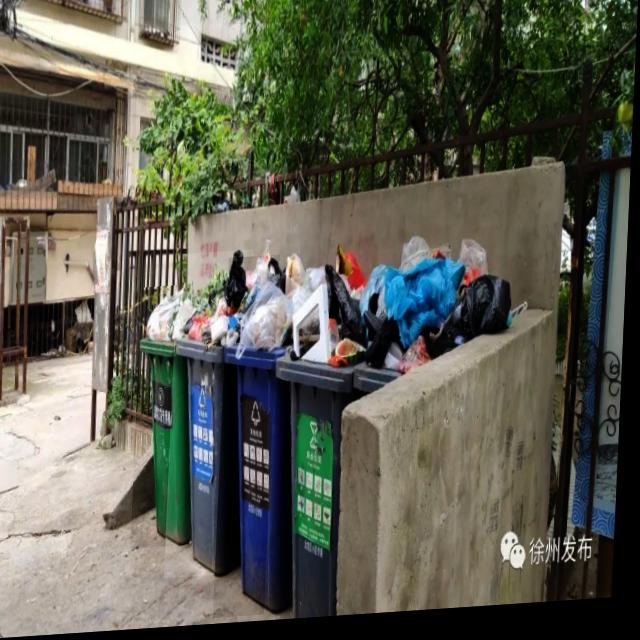overflow: (269, 248, 363, 624), (219, 258, 309, 621), (169, 254, 257, 582), (136, 287, 207, 551)
